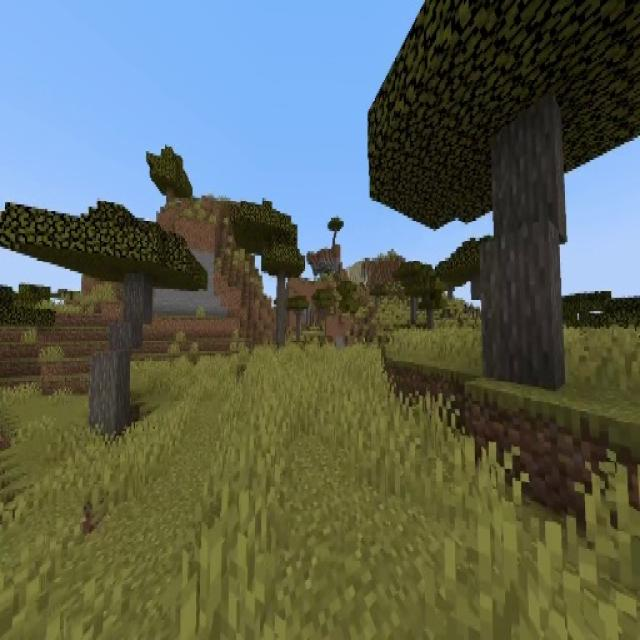acacia: (367, 0, 640, 389), (0, 197, 209, 439), (235, 197, 305, 350)
acacia_log: (486, 121, 568, 382), (90, 345, 126, 434), (125, 271, 150, 325), (276, 276, 286, 350)
oak: (147, 147, 193, 210)
